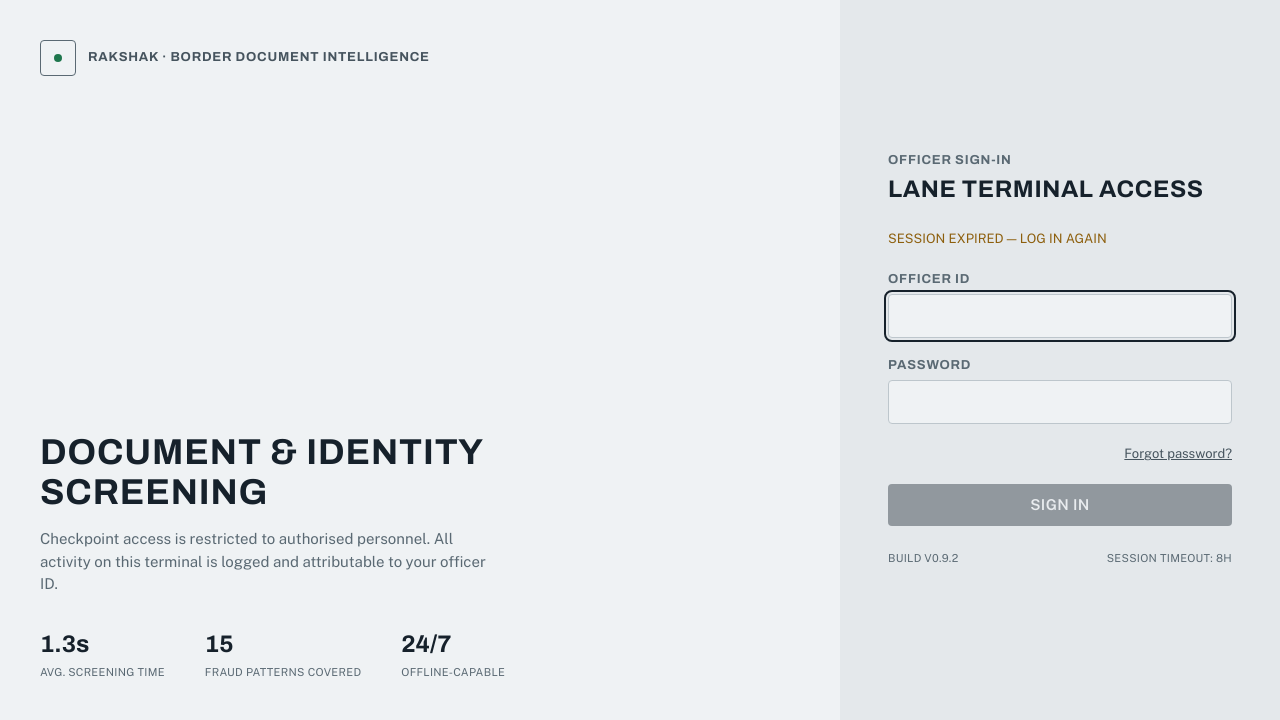
Test case: AppShell forgot-password flow › "Forgot password?" on the login screen navigates to the reset-request form
The image size is (1280, 720).
Expected: the field labelled "Officer ID" is shown, left=888, top=294, right=1232, bottom=338
Click the link "Forgot password?": x=1178, y=454 left=1124, top=444, right=1232, bottom=464
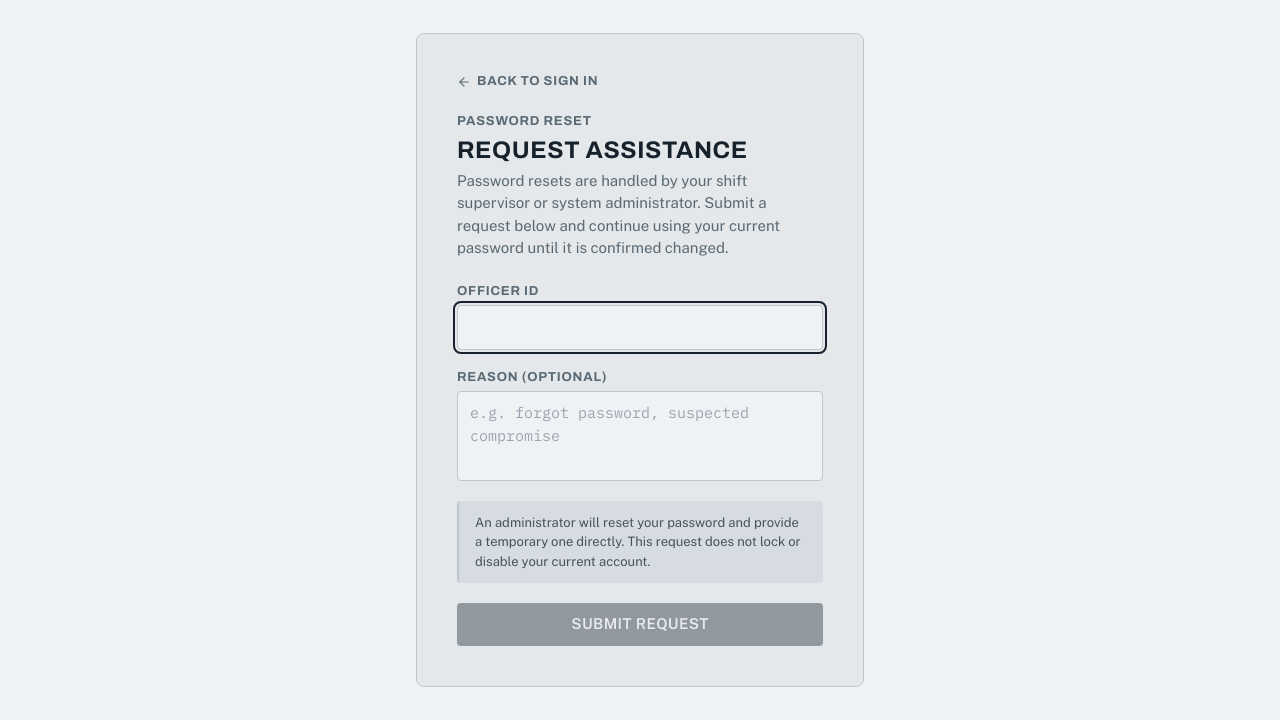
Result: the heading "Request assistance" is shown at left=457, top=136, right=748, bottom=162
